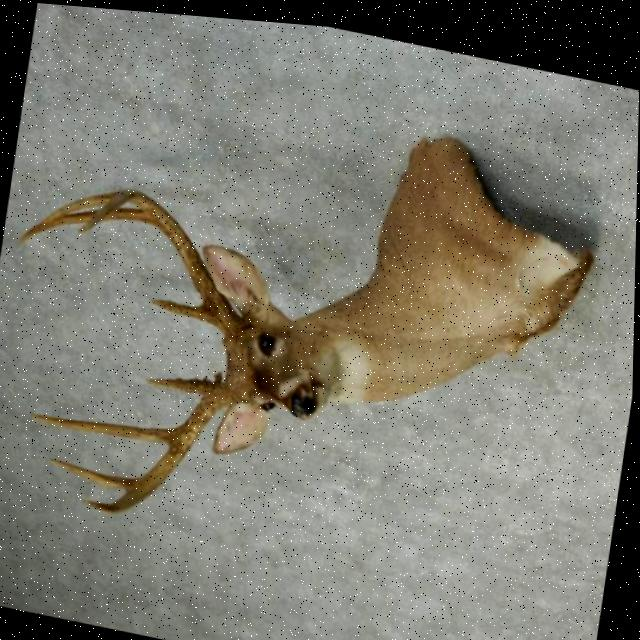L-F: (83, 365, 247, 510)
L-G1: (147, 370, 214, 391)
L-G2: (30, 410, 177, 440)
L-G3: (51, 455, 137, 487)
R-F: (78, 184, 251, 333)
R-G1: (151, 294, 209, 317)
